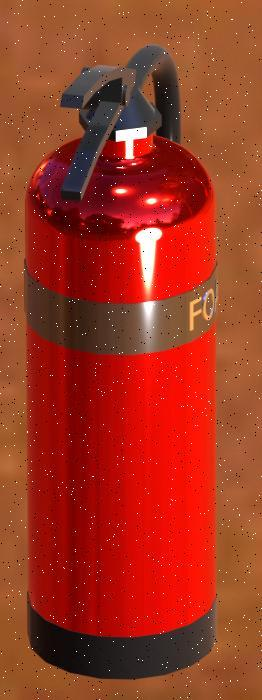Fire Extinguisher: (16, 40, 240, 680)
